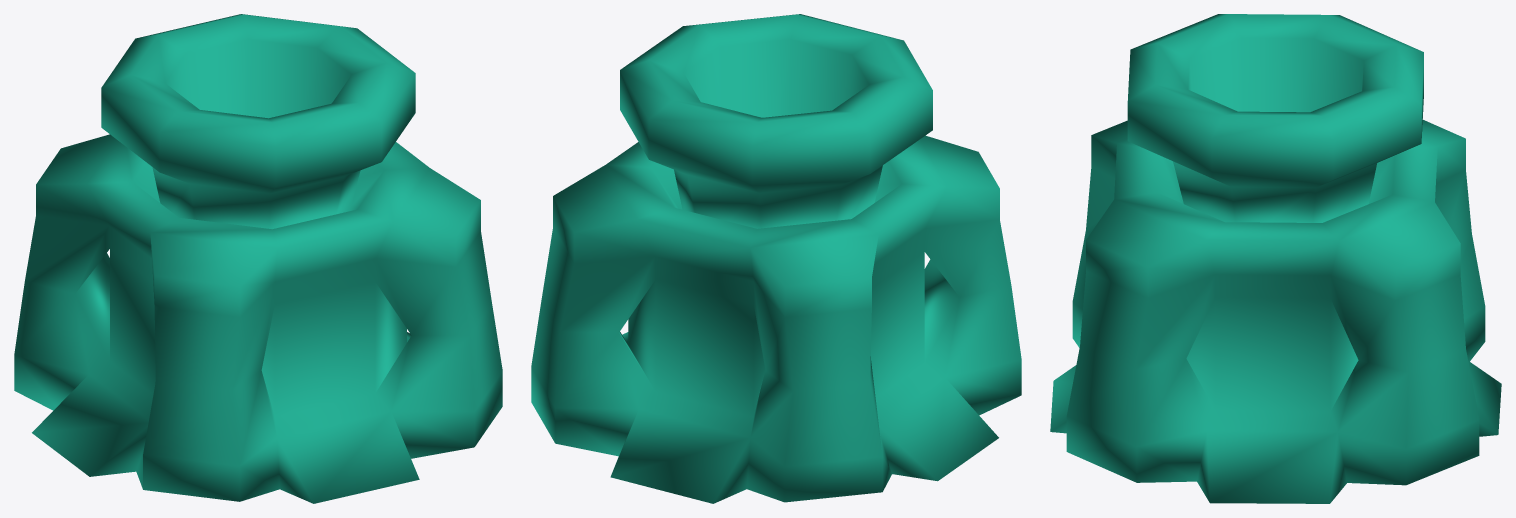
The model's file is Cannon.obj.
The picture shows the model from 3 angles, left to right: view 1: azimuth 30°, elevation 25°; view 2: azimuth 150°, elevation 25°; view 3: azimuth 270°, elevation 25°; orthographic projection.
Parts seen in each view (by area): view 1: Cylinder001; view 2: Cylinder001; view 3: Cylinder001.
Part boxes in pixels (x1,y1,x2,y2): Cylinder001: (14, 14, 502, 503); Cylinder001: (531, 14, 1021, 503); Cylinder001: (1050, 14, 1501, 503).
Size of the model in its own units: 49.59 by 41.26 by 49.22.
